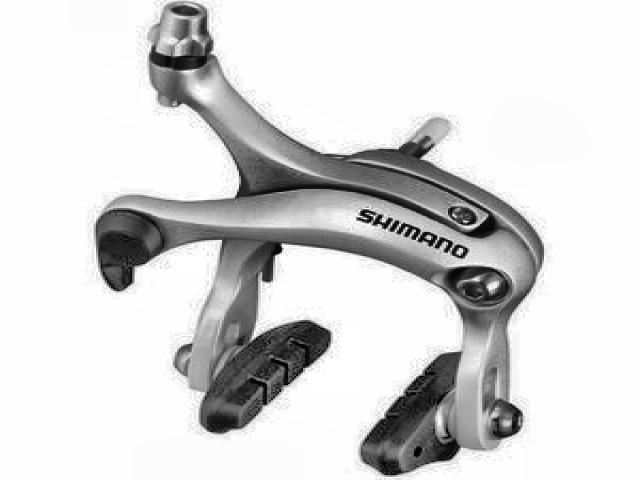rim_brake: (90, 2, 548, 476)
